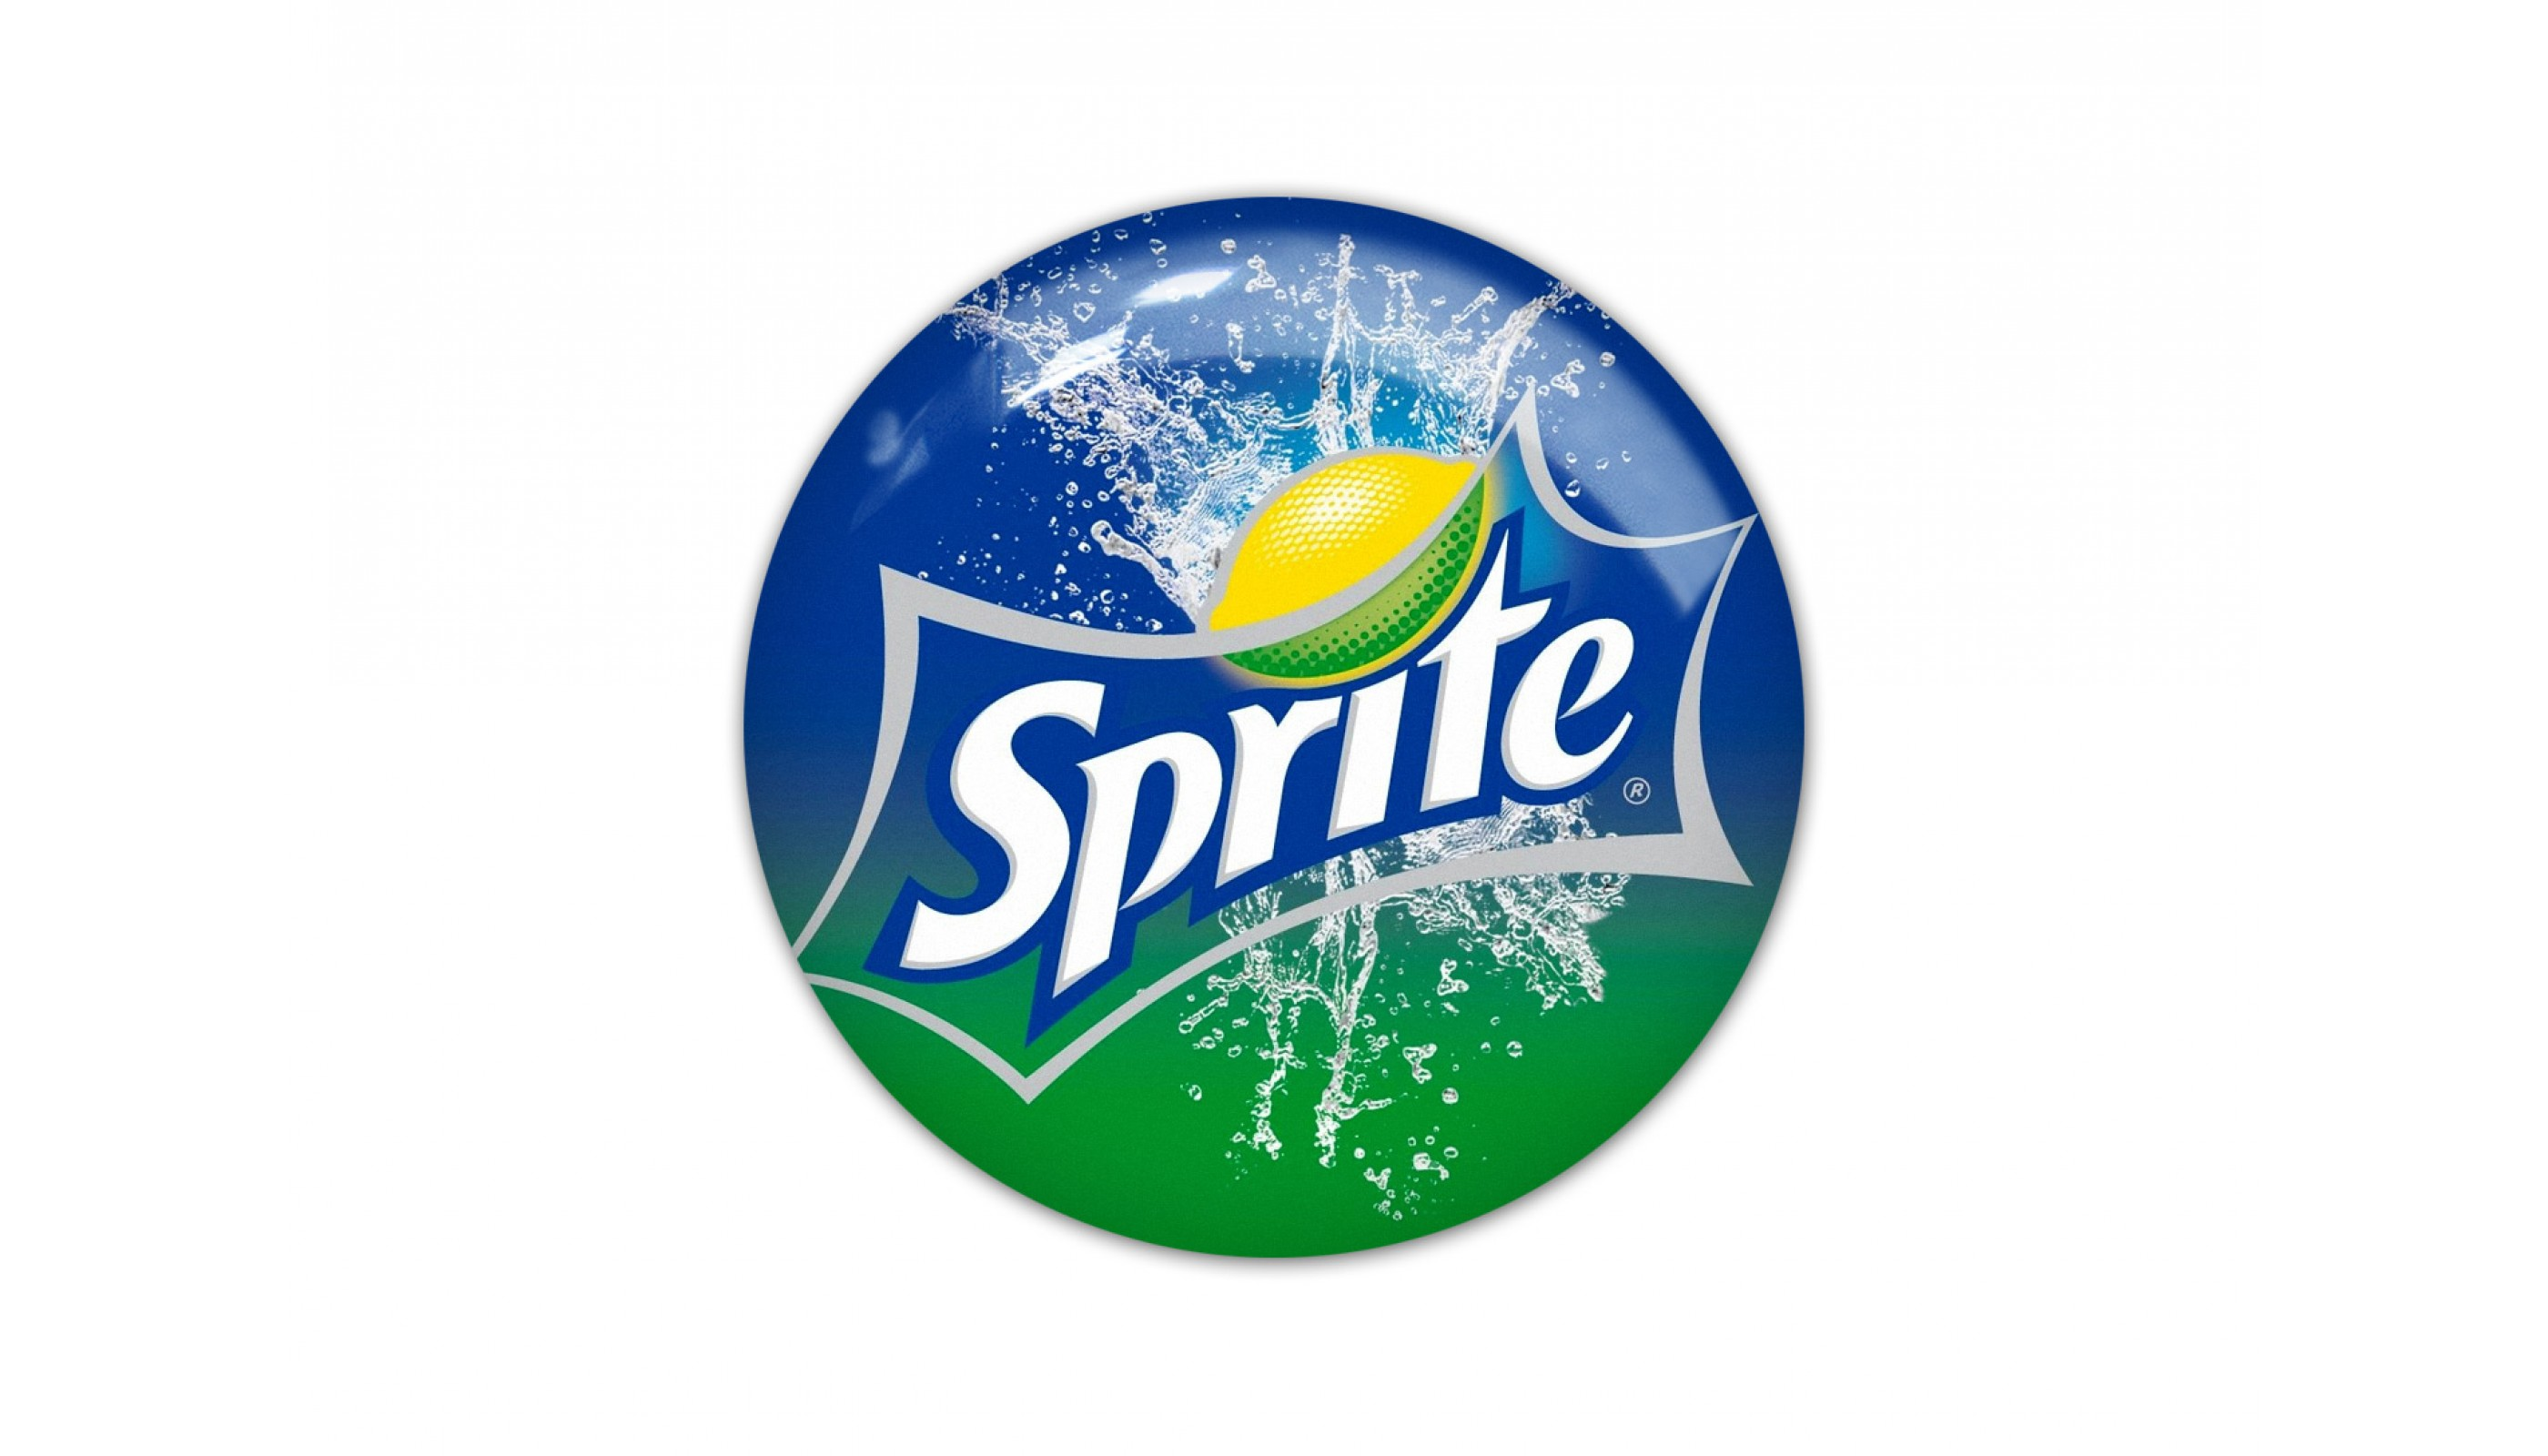sprite: (898, 527, 1631, 992)
